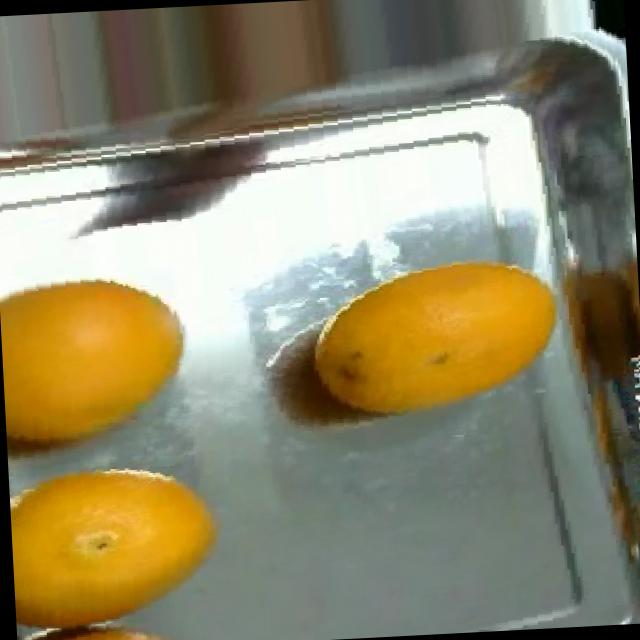Fruit: (366, 229, 578, 421), (581, 0, 627, 61)
